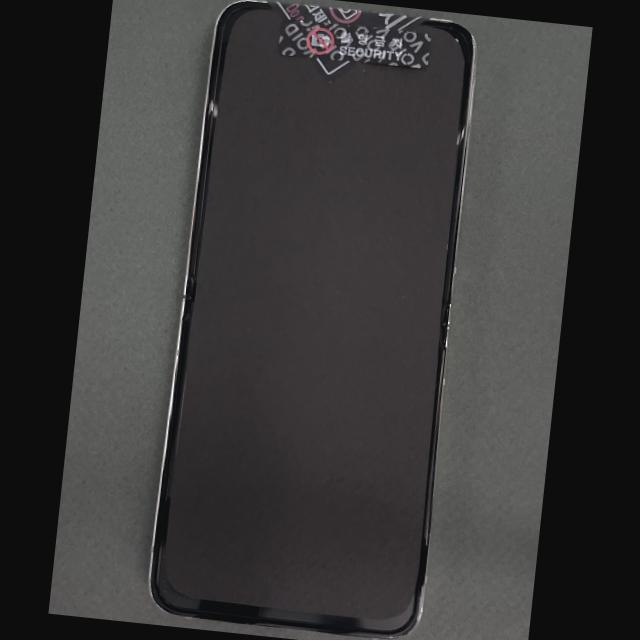phone: (146, 0, 479, 640)
sticker: (277, 19, 431, 69), (268, 1, 432, 31)
